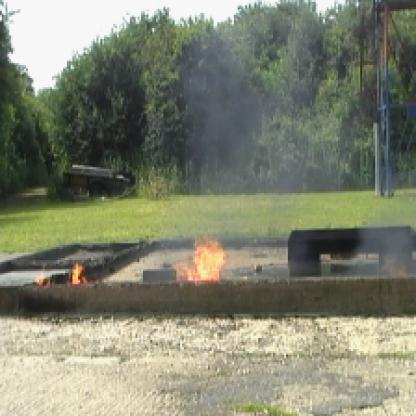Fire: (169, 232, 234, 288), (31, 260, 94, 290)
Smoke: (178, 28, 270, 223), (351, 172, 414, 290)
